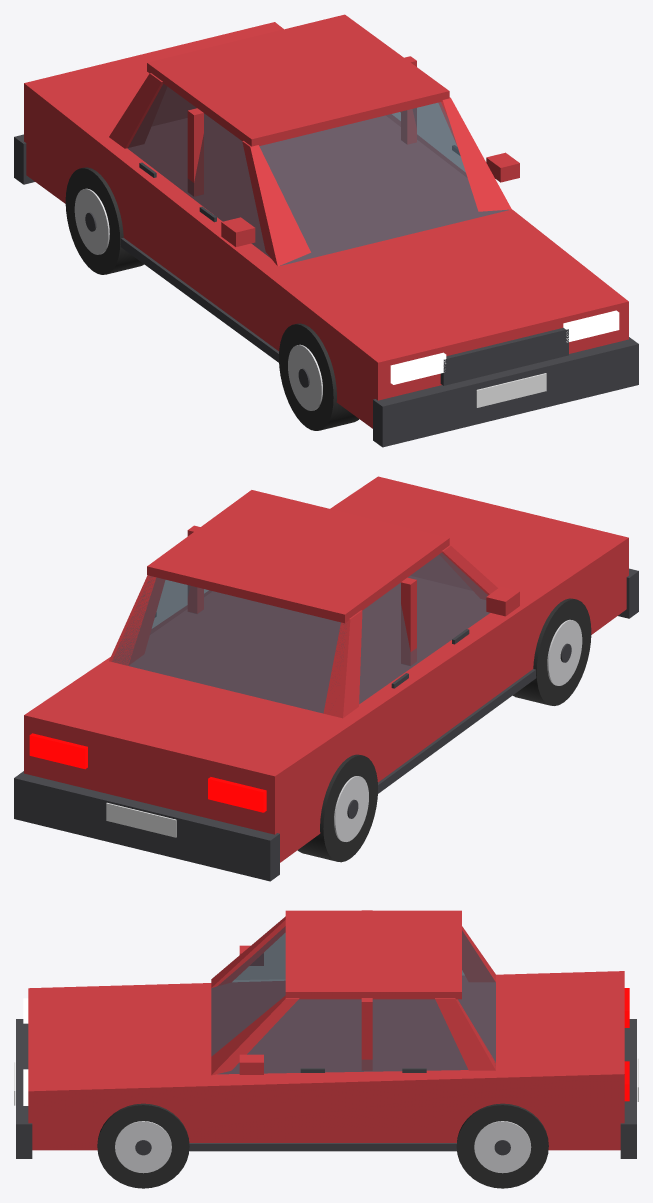
The model's file is carro.glb.
3 views of the same model, one above another, from view 1: azimuth 30°, elevation 25°; view 2: azimuth 150°, elevation 25°; view 3: azimuth 270°, elevation 25° (orthographic). The views are drawn at different scales.
Visible parts, largest first — view 1: Carro; view 2: Carro; view 3: Carro.
Boxes of the visible parts, <box> form: Carro: <box>14,14,638,447</box>; Carro: <box>14,476,638,881</box>; Carro: <box>14,910,638,1188</box>.
Size of the model in its own units: 2.04 by 1.5 by 4.61.
